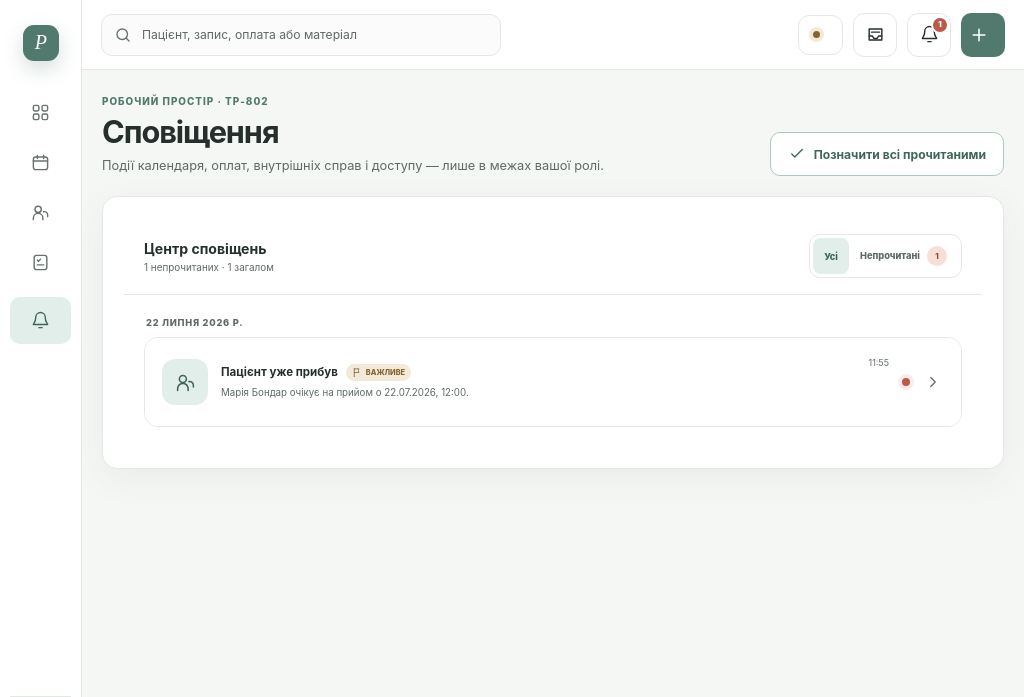
it: notifications center › falls back to the overview when a returned deep link is unsafe for the role
Click the button with aria-label "Непрочитане сповіщення: Пацієнт уже прибув".
click(185, 382)  # box [145,338,961,426]
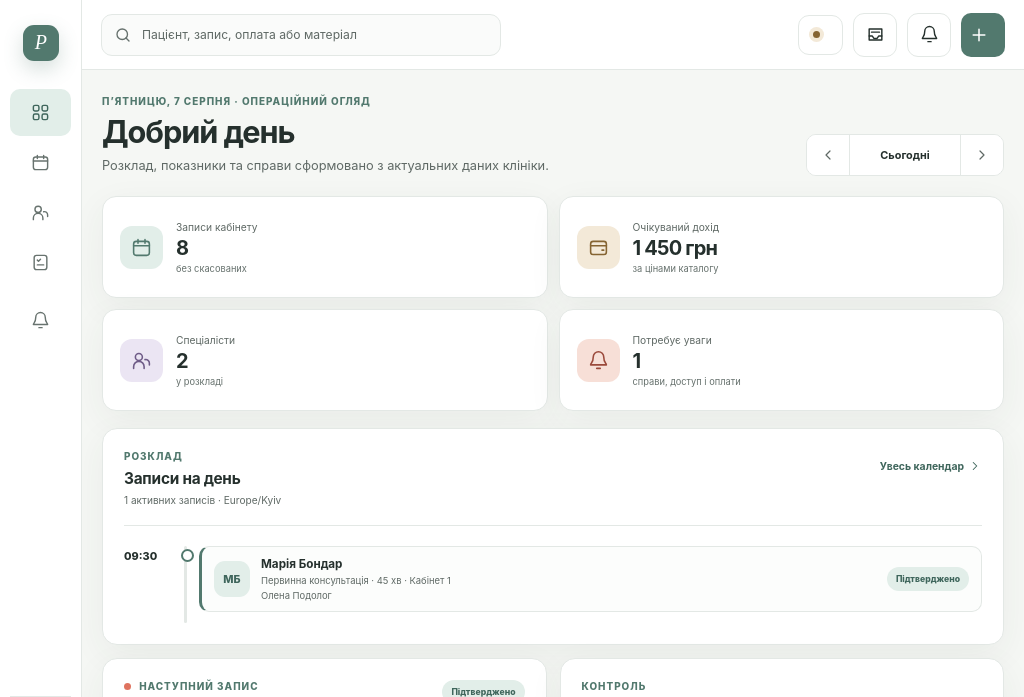
expect the heading "Добрий день" is shown: met, box [102,113,294,150]
